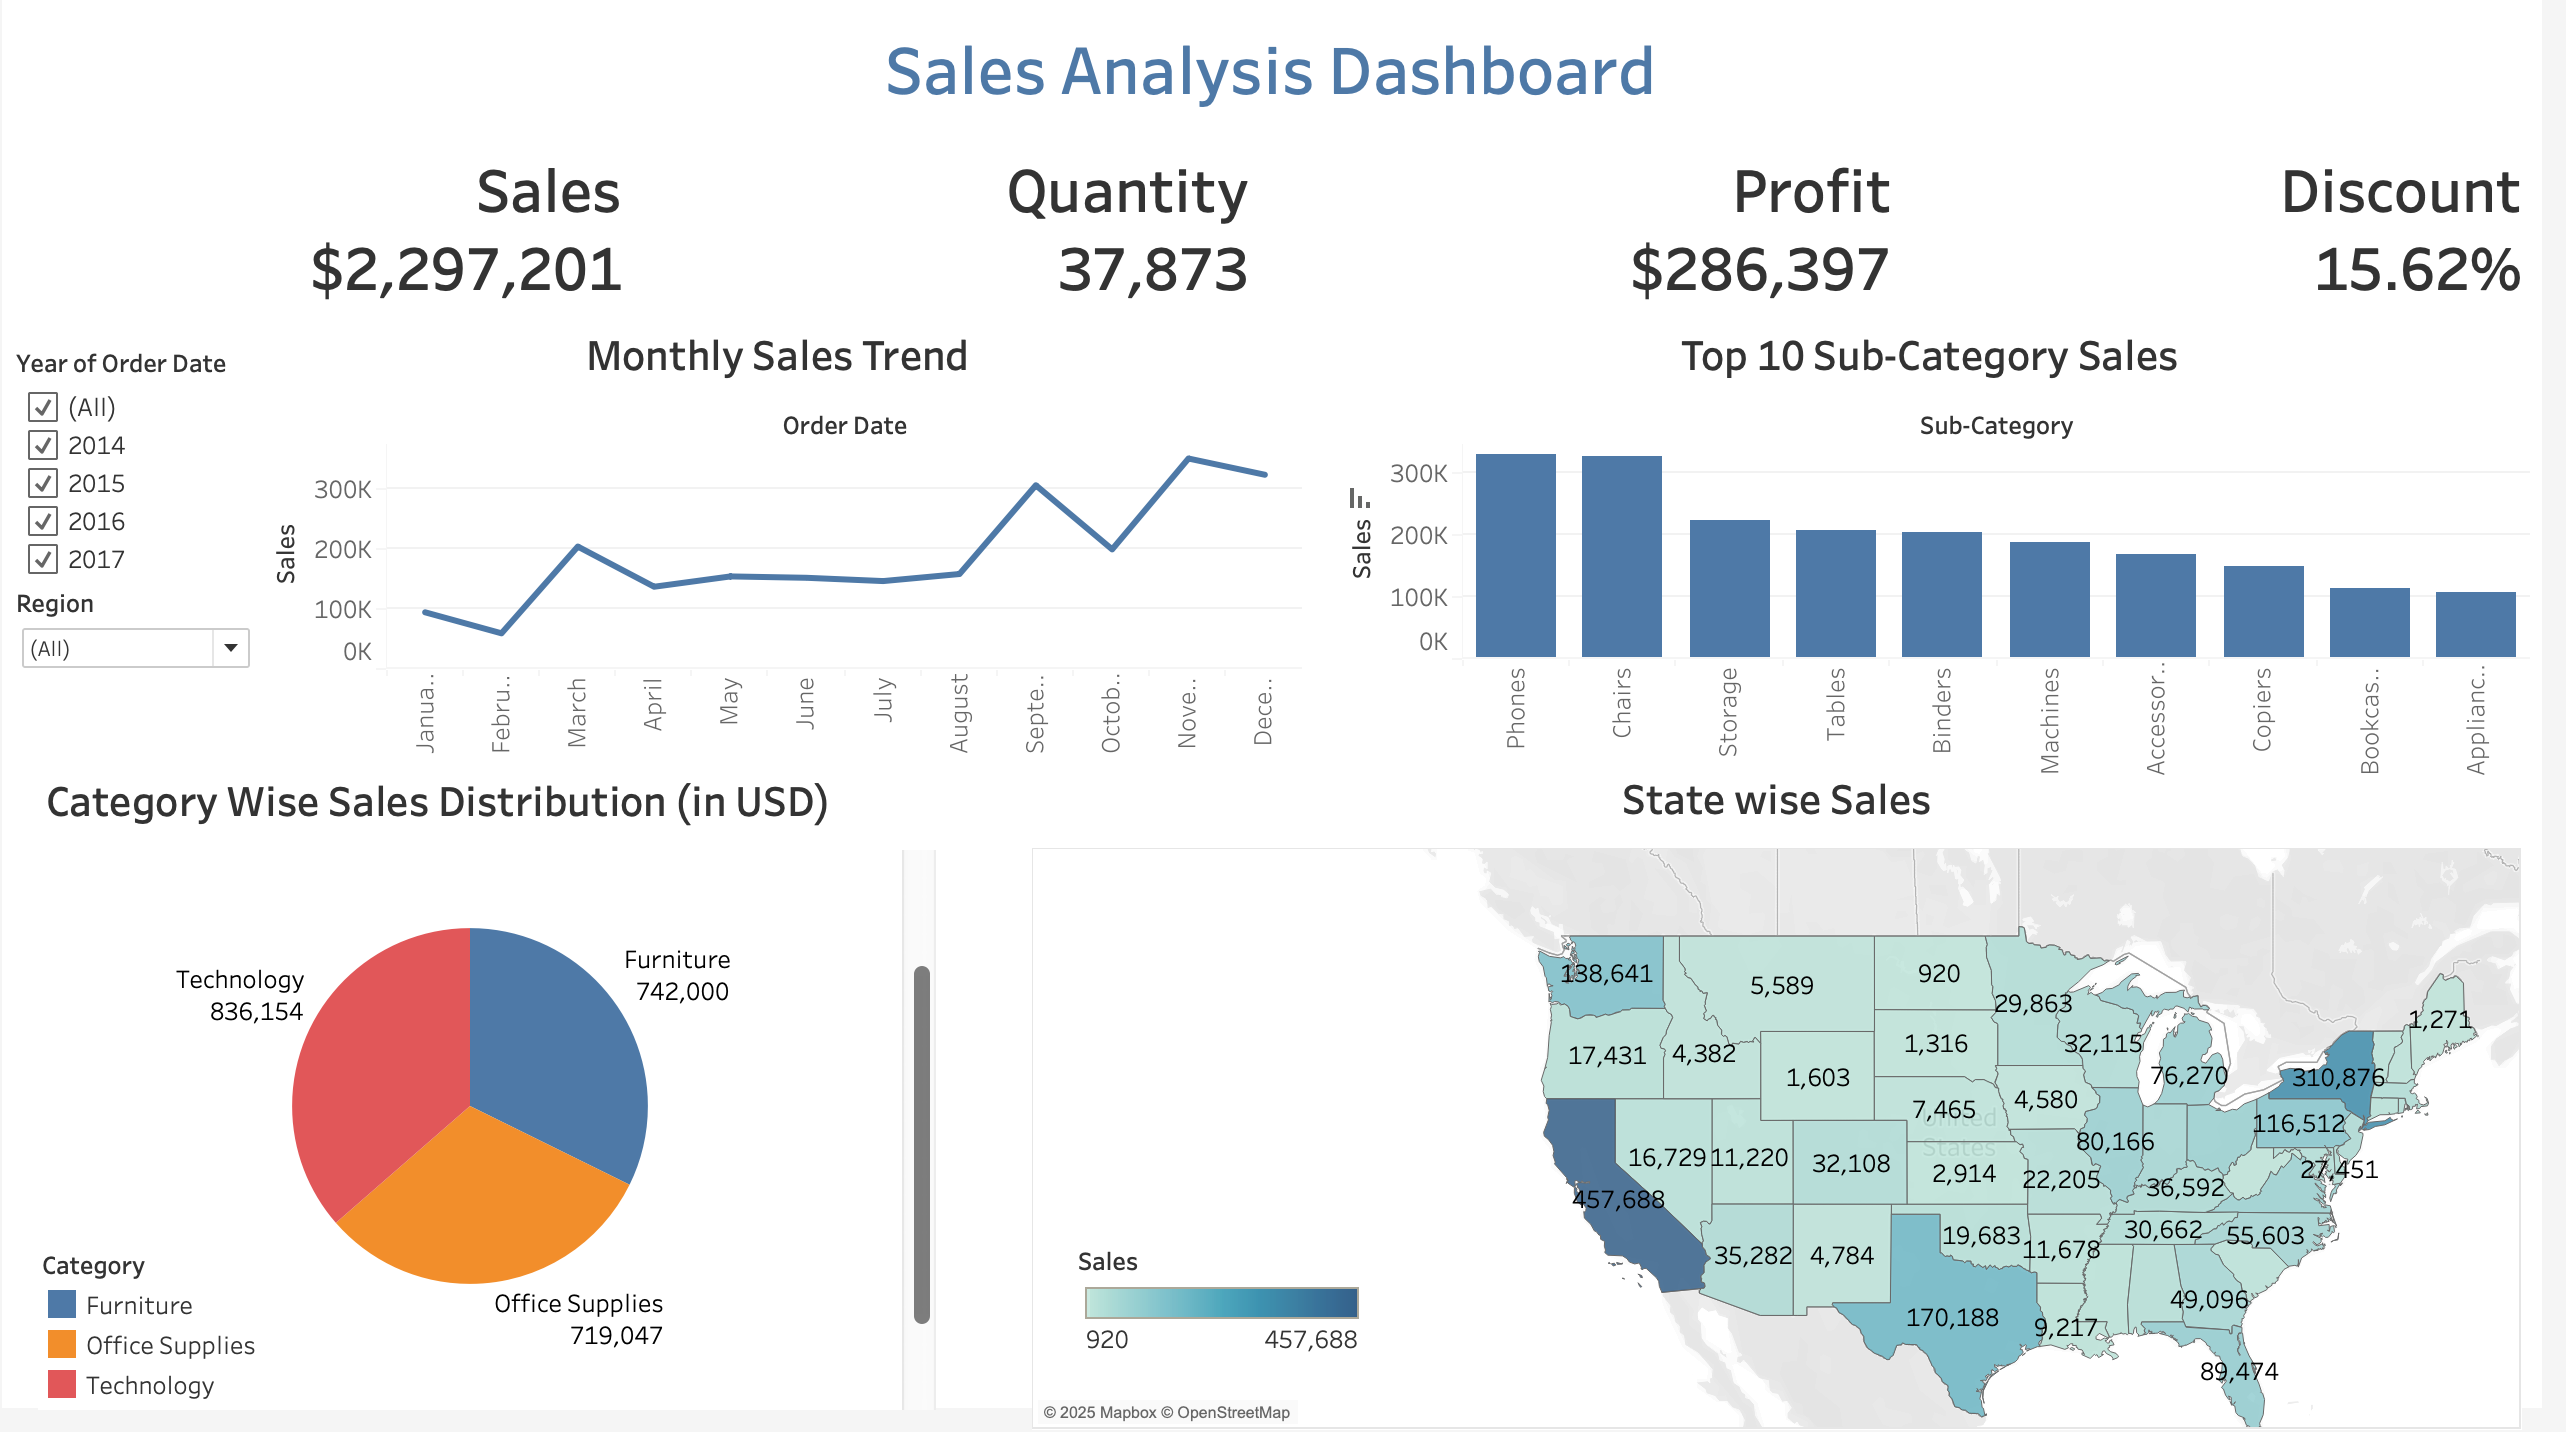

The dashboard page shown, as its layout file describes it:
{"tool":"tableau","page":{"name":"Dashboard 1","canvas":[1000,1000],"units":"permille","ordinal":0},"visuals":[{"type":"text","box":[0.8,9.9,997.6,76.7]},{"type":"worksheet","title":"Sales","mark":"Automatic","box":[1.6,73.9,249.6,156.2]},{"type":"worksheet","title":"Qua","mark":"Automatic","box":[251.2,73.9,249.6,156.2]},{"type":"worksheet","title":"Profit","mark":"Automatic","box":[500.8,73.9,249.6,156.2]},{"type":"worksheet","title":"Dis","mark":"Automatic","box":[750.4,73.9,248.8,156.2]},{"type":"worksheet","title":"Sheet 1","mark":"Automatic","rows":["Sales"],"cols":["Order Date"],"box":[99.4,225.8,412.9,312.5]},{"type":"worksheet","title":"Sheet 10","mark":"Automatic","rows":["Sales"],"cols":["Sub-Category"],"box":[522.8,225.8,472.3,326.7]},{"type":"filter","title":"Sheet 1","param":"[federated.0u4581w1ng0m4v1fo57e516t0ahk].[yr:Order Date:ok]","box":[5.7,245.7,92,169]},{"type":"filter","title":"Sheet 1","param":"[federated.0u4581w1ng0m4v1fo57e516t0ahk].[none:Region:nk]","box":[5.7,416.2,94.5,105.1]},{"type":"worksheet","title":"Sheet 3","mark":"Pie","box":[13.8,542.6,392.5,458.8]},{"type":"legend","title":"Sheet 4","param":"[federated.0u4581w1ng0m4v1fo57e516t0ahk].[sum:Sales:qk]","box":[423.4,883.5,114,109.4]},{"type":"legend","title":"Sheet 3","param":"[federated.0u4581w1ng0m4v1fo57e516t0ahk].[none:Category:nk]","box":[15.5,886.4,114,110.8]}]}

Visuals, with their boxes on the dashboard's canvas, which has no fixed pixel size, in thousandths of its width and height (x1, y1, x2, y2). These are canvas units, not pixel positions in the 2566x1432 screenshot, which may show the page scaled, cropped or inside an application window:
text: (1, 10, 998, 87)
"Sales" worksheet: (2, 74, 251, 230)
"Qua" worksheet: (251, 74, 501, 230)
"Profit" worksheet: (501, 74, 750, 230)
"Dis" worksheet: (750, 74, 999, 230)
"Sheet 1" worksheet: (99, 226, 512, 538)
"Sheet 10" worksheet: (523, 226, 995, 552)
"Sheet 1" filter: (6, 246, 98, 415)
"Sheet 1" filter: (6, 416, 100, 521)
"Sheet 3" worksheet (Pie marks): (14, 543, 406, 1001)
"Sheet 4" legend: (423, 884, 537, 993)
"Sheet 3" legend: (16, 886, 130, 997)
